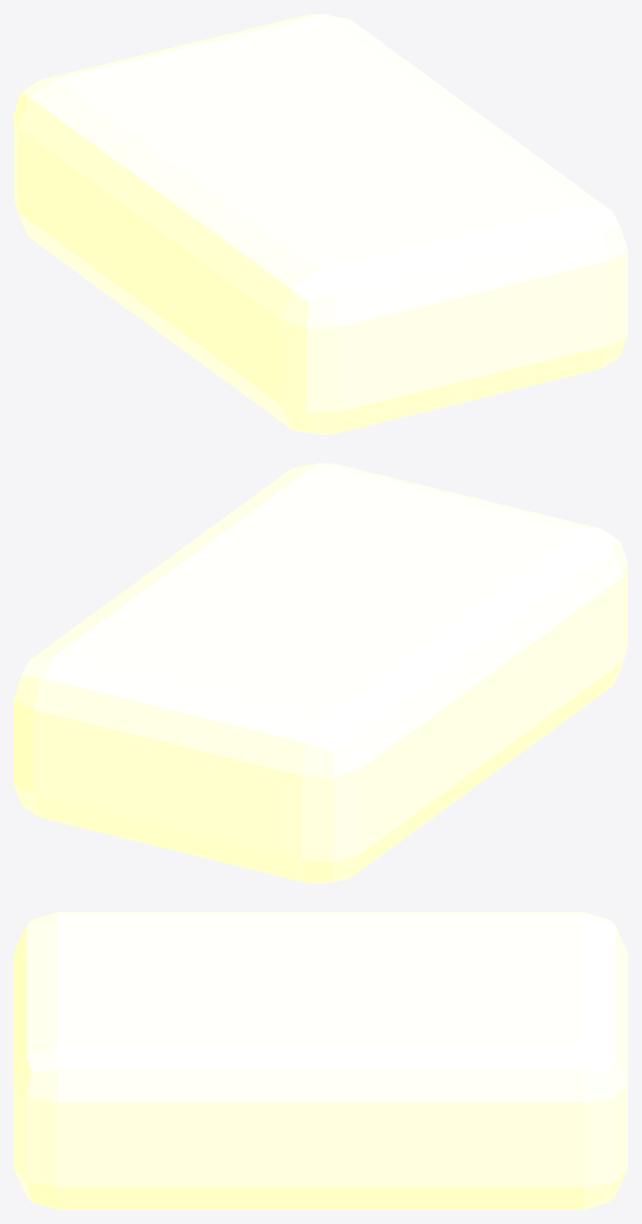
The model's file is ElectrumIngot.fbx.
3 renders of one model, top to bottom at view 1: azimuth 30°, elevation 25°; view 2: azimuth 150°, elevation 25°; view 3: azimuth 270°, elevation 25°, orthographic.
Visible parts, largest first — view 1: MainMesh; view 2: MainMesh; view 3: MainMesh.
Part boxes in pixels (x1=…): MainMesh: x1=14, y1=14, x2=627, y2=434; MainMesh: x1=14, y1=463, x2=627, y2=883; MainMesh: x1=14, y1=912, x2=627, y2=1209.
Bounding box in the file's own units: 1.1 × 0.5 × 1.7.
